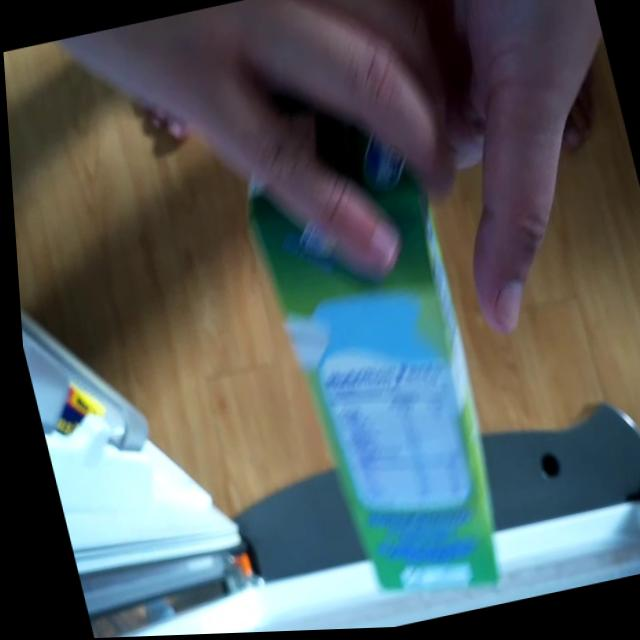milk: (223, 87, 529, 634)
